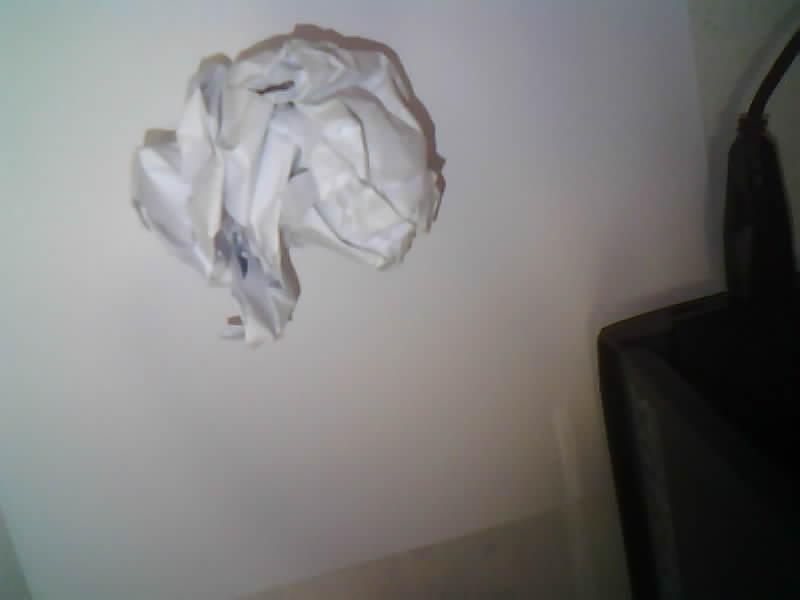biodegradable: (132, 35, 441, 343)
